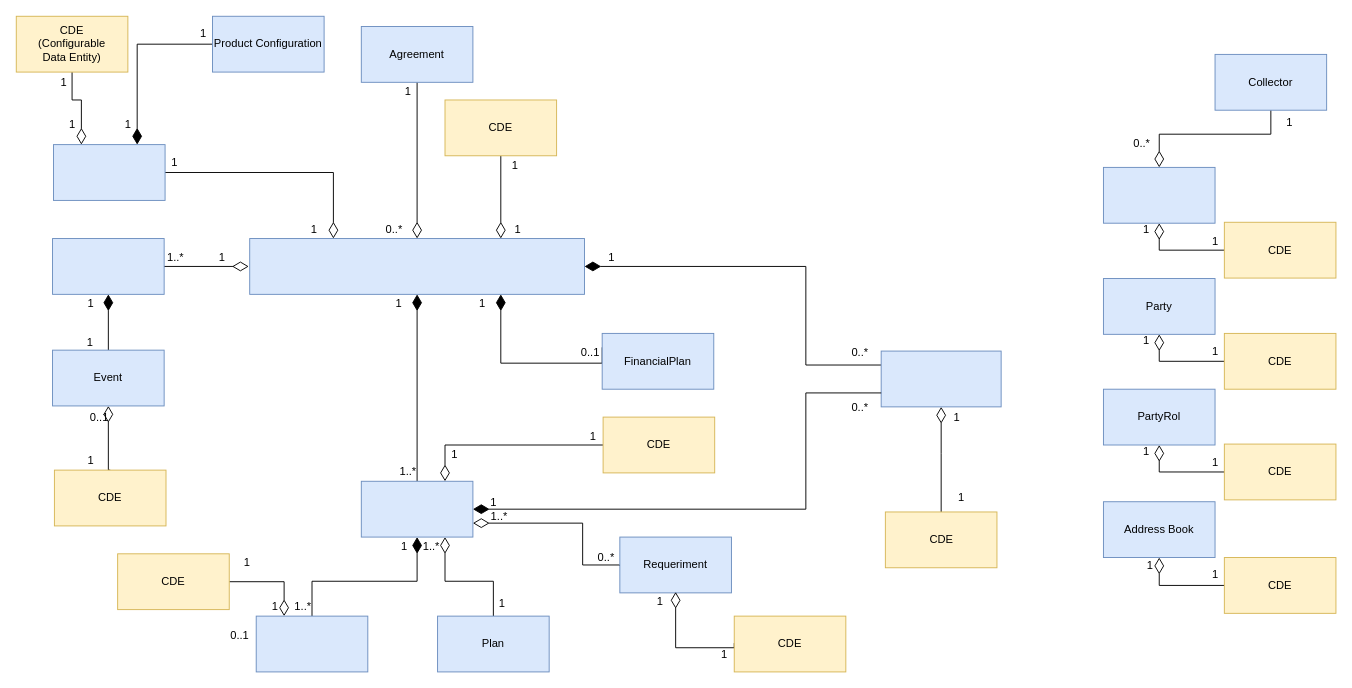
This 1352x688 diagram has some shape labels left out. Each missing label, with the centre of its shape:
"Coverage" goes at (x=311, y=643).
"InsurableObject" goes at (x=416, y=508).
"Operation" goes at (x=108, y=266).
"Participation" goes at (x=940, y=378).
"PaymentMode" goes at (x=1159, y=194).
"Policy" goes at (x=417, y=266).
"Product" goes at (x=109, y=172).
